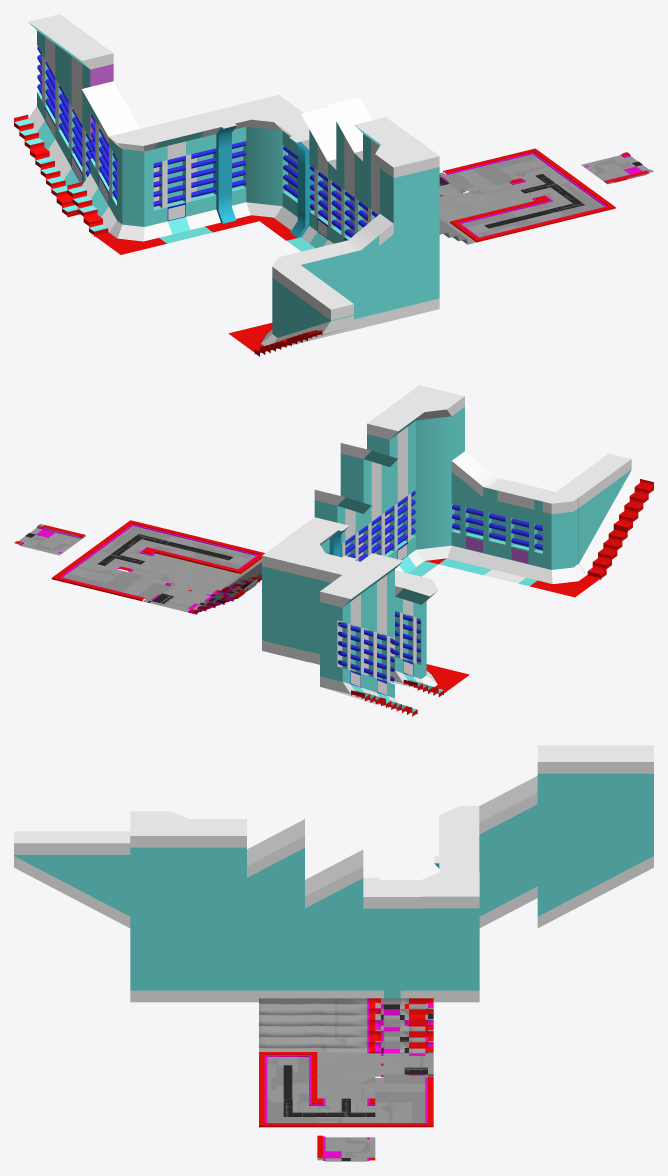
The model's file is FloorNWalls.fbx.
The picture shows the model from 3 angles, top to bottom: view 1: azimuth 30°, elevation 25°; view 2: azimuth 150°, elevation 25°; view 3: azimuth 270°, elevation 25°; orthographic projection. The views are drawn at different scales.
Visible parts, largest first — view 1: ClosedTurnTall, Base (×2), BaseAngledTall, Column, BaseAngled, BaseAngledMid, OpenTurn, ClosedTurn, BaseToLow, BaseToMid, BaseToTall, Ending (+13 smaller); view 2: ClosedTurnTall, BaseAngledMid, ClosedTurn, BaseTall, BaseToLow, BaseLow, BaseAngledTall, OpenTurnLow, BaseToTall, LowToMid, BaseAngled, LowToBase (+15 smaller); view 3: ClosedTurnTall, BaseTall, BaseAngledTall, BaseToTall, BaseAngledMid, BaseToMid, ClosedTurn, BaseAngled, Ending, LowToMid, Stairs, StairsSide (+14 smaller).
Boxes of the visible parts, bbox=[...] form: ClosedTurnTall: bbox=[375, 136, 439, 320]; Base (×2): bbox=[140, 117, 569, 243]; BaseAngledTall: bbox=[40, 33, 113, 217]; Column: bbox=[187, 106, 258, 232]; BaseAngled: bbox=[67, 81, 139, 236]; BaseAngledMid: bbox=[14, 14, 86, 167]; OpenTurn: bbox=[94, 129, 166, 254]; ClosedTurn: bbox=[233, 95, 303, 220]; BaseToLow: bbox=[334, 214, 393, 331]; BaseToMid: bbox=[287, 107, 341, 251]; BaseToTall: bbox=[327, 97, 371, 242]; Ending: bbox=[260, 115, 314, 240]; ClosedTurnTall: bbox=[393, 385, 464, 564]; BaseAngledMid: bbox=[320, 572, 391, 707]; ClosedTurn: bbox=[262, 536, 325, 661]; BaseTall: bbox=[367, 404, 437, 576]; BaseToLow: bbox=[439, 451, 509, 575]; BaseLow: bbox=[484, 481, 555, 586]; BaseAngledTall: bbox=[346, 553, 417, 716]; OpenTurnLow: bbox=[530, 492, 600, 597]; BaseToTall: bbox=[340, 443, 397, 559]; LowToMid: bbox=[556, 473, 627, 579]; BaseAngled: bbox=[390, 586, 443, 696]; LowToBase: bbox=[583, 453, 653, 532]; ClosedTurnTall: bbox=[130, 811, 188, 1002]; BaseTall: bbox=[188, 819, 246, 1002]; BaseAngledTall: bbox=[537, 745, 595, 927]; BaseToTall: bbox=[247, 819, 304, 1002]; BaseAngledMid: bbox=[595, 745, 653, 897]; BaseToMid: bbox=[305, 850, 363, 998]; ClosedTurn: bbox=[421, 872, 479, 1002]; BaseAngled: bbox=[479, 776, 537, 927]; Ending: bbox=[363, 877, 421, 998]; LowToMid: bbox=[72, 831, 130, 927]; Stairs: bbox=[375, 998, 433, 1053]; StairsSide: bbox=[317, 998, 375, 1053].
Size of the model in its own units: 825 by 248 by 866.
9 materials, 2 textured.
